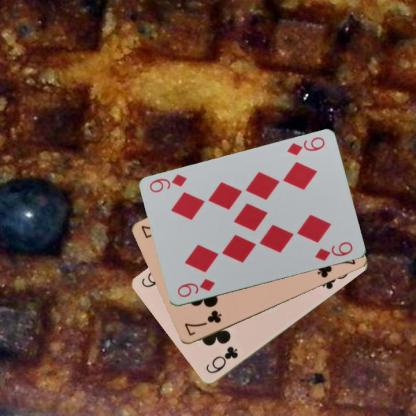6c: (203, 344, 240, 376)
7c: (181, 307, 223, 338)
9d: (175, 276, 216, 299), (284, 135, 326, 157)
